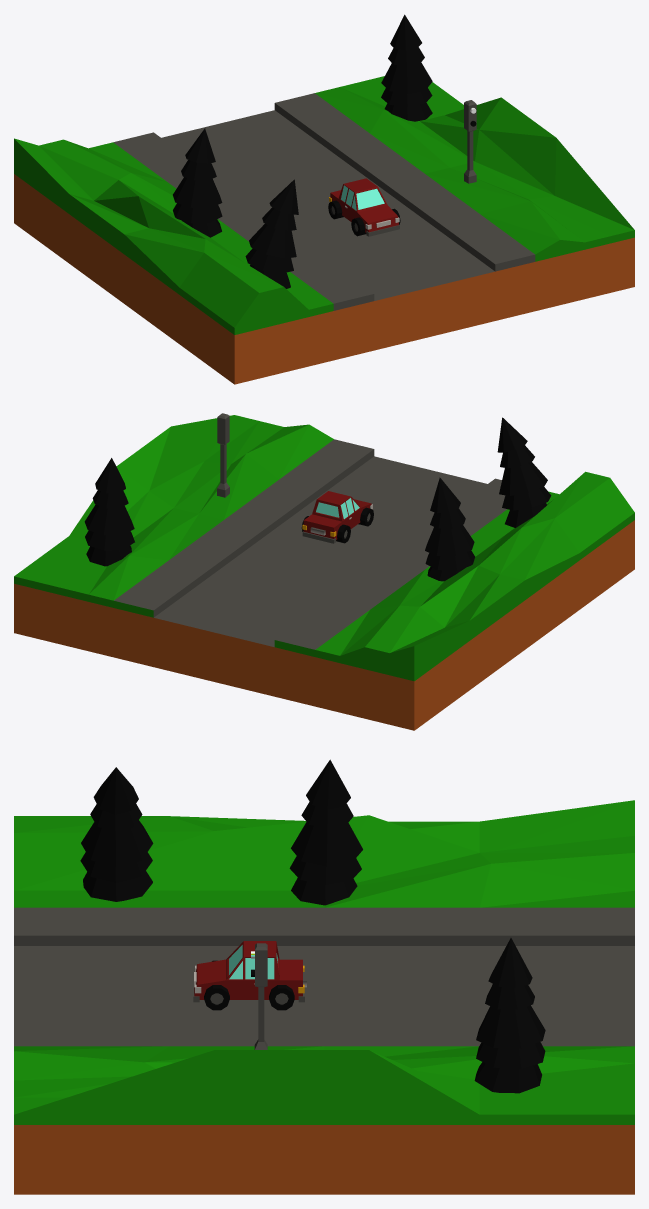
The model's file is diorama bil 1 .fbx.
The picture shows the model from 3 angles, top to bottom: view 1: azimuth 30°, elevation 25°; view 2: azimuth 150°, elevation 25°; view 3: azimuth 270°, elevation 25°; orthographic projection. The views are drawn at different scales.
Visible parts, largest first — view 1: Cube.001, Cube; view 2: Cube.001, Cube; view 3: Cube.001, Cube.
Boxes of the visible parts, x1=… form: Cube.001: x1=14, y1=14, x2=634, y2=384; Cube: x1=328, y1=178, x2=400, y2=236; Cube.001: x1=14, y1=413, x2=634, y2=730; Cube: x1=301, y1=491, x2=373, y2=543; Cube.001: x1=14, y1=759, x2=634, y2=1194; Cube: x1=193, y1=941, x2=306, y2=1010.
Bounding box in the file's own units: 2623 × 980 × 2503.
